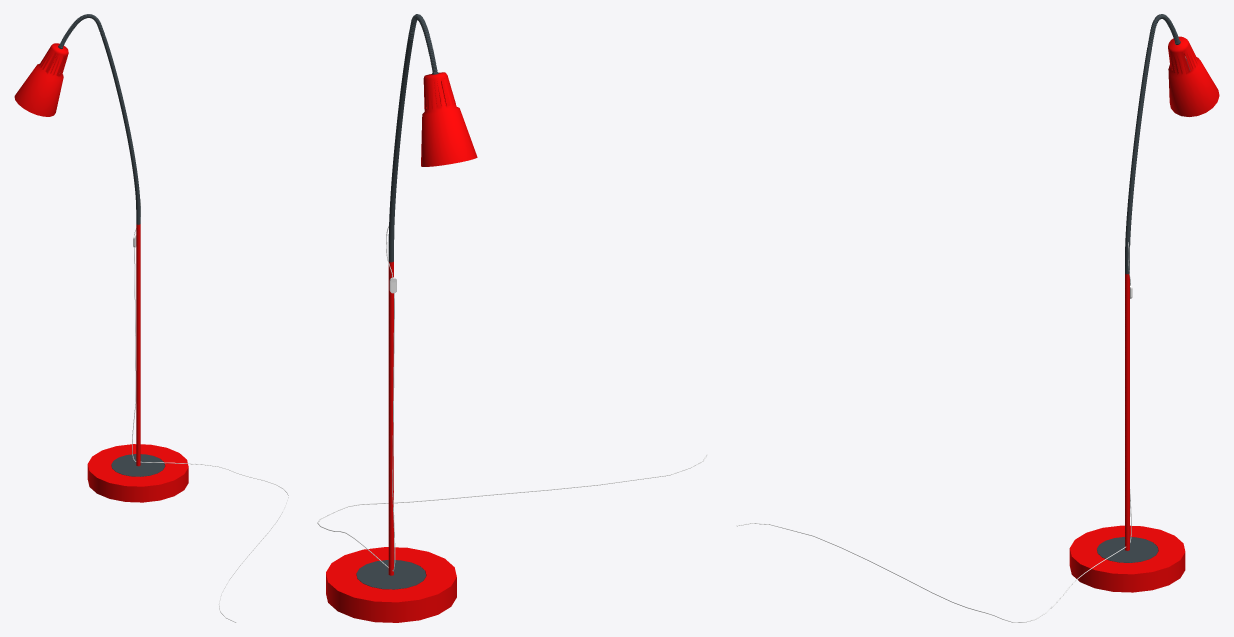
The model's file is IKEA-Kvart_Floor_Lamp_Red-3D.DAE.
The picture shows the model from 3 angles, left to right: view 1: azimuth 30°, elevation 25°; view 2: azimuth 150°, elevation 25°; view 3: azimuth 270°, elevation 25°; orthographic projection. The views are drawn at different scales.
Parts seen in each view (by area): view 1: Line01; view 2: Line01; view 3: Line01.
Boxes of the visible parts, x1,y1,x2,y2 form: Line01: (14, 14, 288, 622); Line01: (317, 14, 707, 622); Line01: (736, 14, 1219, 622).
Bounding box in the file's own units: 528 × 1221 × 1002.
